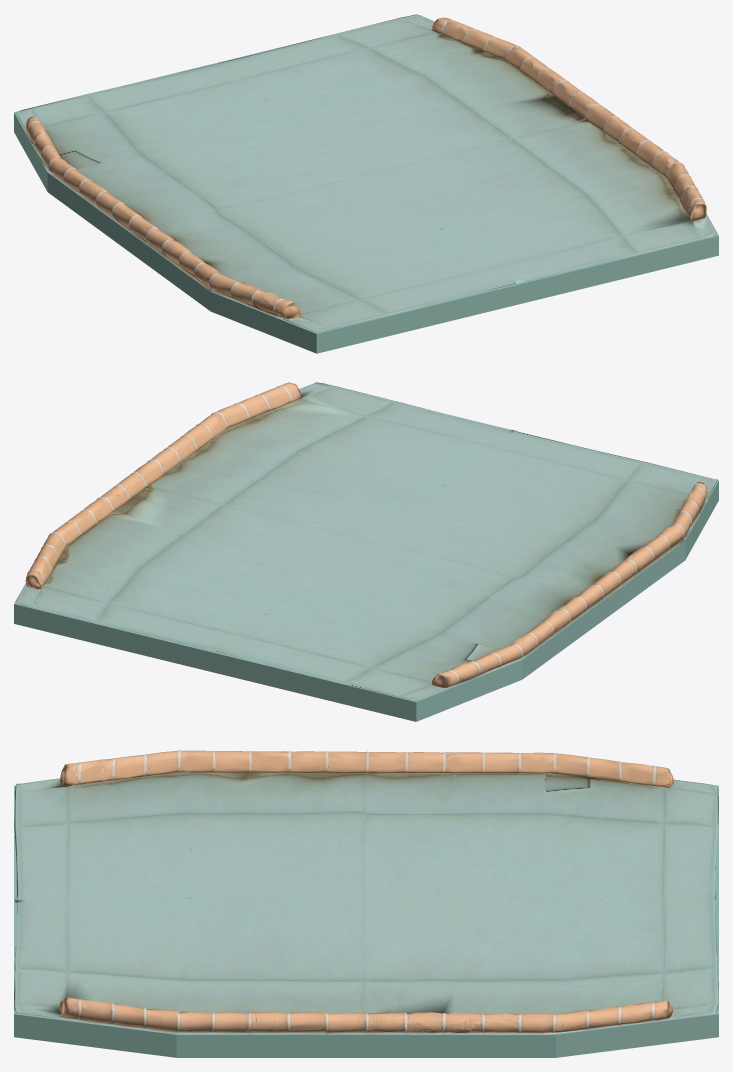
The model's file is quilted-runway.glb.
3 renders of one model, top to bottom at view 1: azimuth 30°, elevation 25°; view 2: azimuth 150°, elevation 25°; view 3: azimuth 270°, elevation 25°, orthographic. The views are drawn at different scales.
Parts seen in each view (by area): view 1: Quilted runway, Cushion underside; view 2: Quilted runway, Cushion underside; view 3: Quilted runway, Cushion underside.
Boxes of the visible parts, x1,y1,x2,y2 form: Quilted runway: (16, 14, 716, 331); Cushion underside: (14, 14, 718, 353); Quilted runway: (15, 382, 717, 700); Cushion underside: (14, 404, 718, 721); Quilted runway: (14, 750, 718, 1034); Cushion underside: (14, 773, 718, 1057).
Size of the model in its own units: 23.59 by 1.7 by 26.
Materials: 2 (1 with a texture image).
